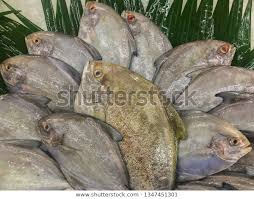Ikan Bawal: (74, 57, 189, 191), (24, 111, 137, 191)
